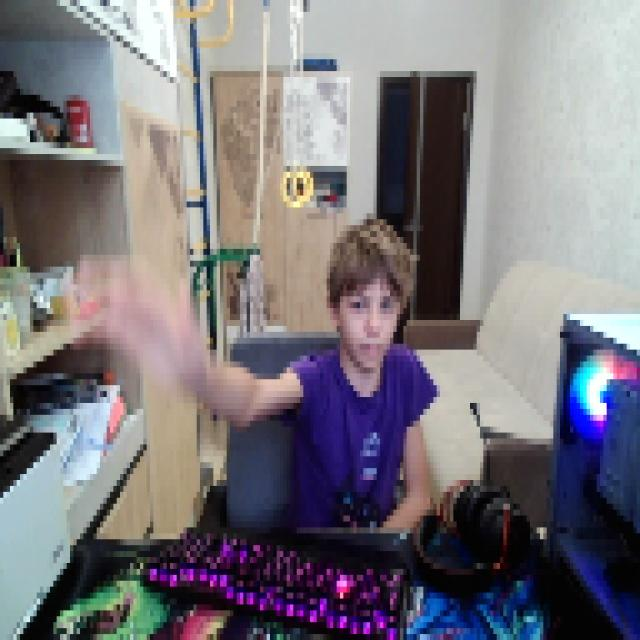hand: (74, 243, 204, 391)
